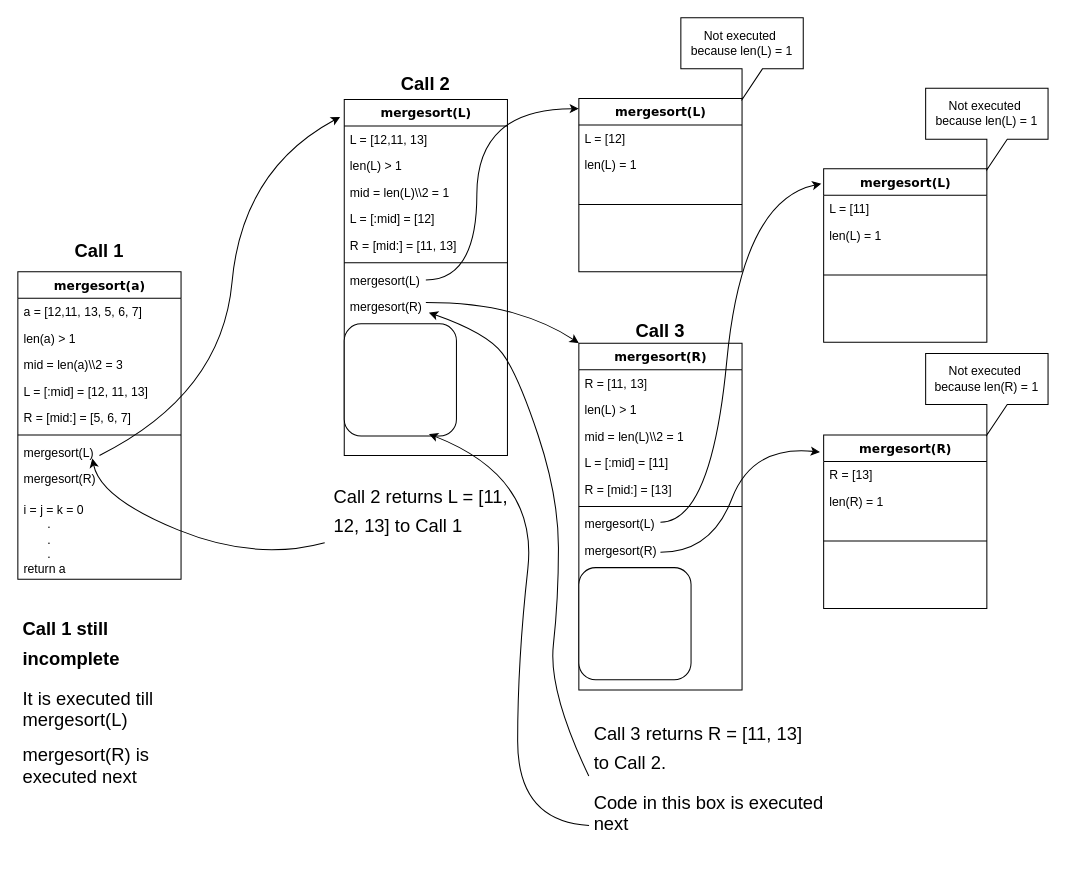
This 1066x881 diagram has some shape labels left out. Each missing label, with the centre of its shape:
"i = j = k = 0 . . . return L" belongs at pixel 399 379.
"i = j = k = 0 . . . return R" belongs at pixel 634 623.
